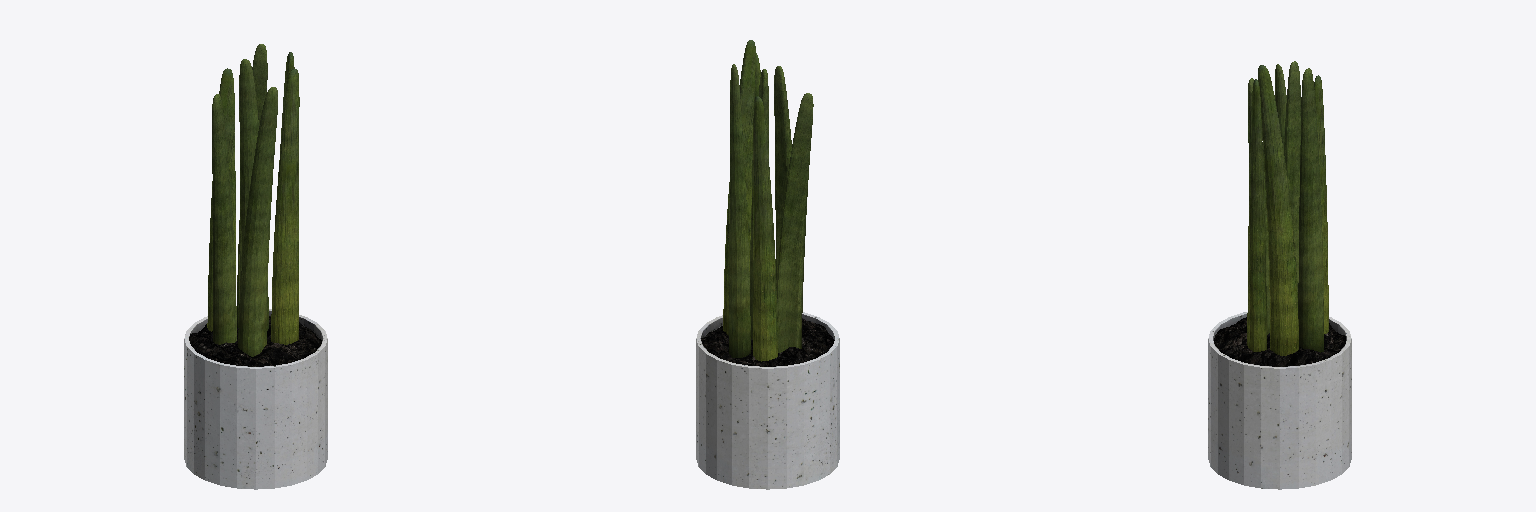
The picture shows the model from 3 angles: view 1: azimuth 30°, elevation 25°; view 2: azimuth 150°, elevation 25°; view 3: azimuth 270°, elevation 25°; orthographic projection.
Parts seen in each view (by area): view 1: Sansewieria; view 2: Sansewieria; view 3: Sansewieria.
Part boxes in pixels (x1,y1,x2,y2): Sansewieria: (184,44,327,489); Sansewieria: (696,40,839,489); Sansewieria: (1208,61,1351,489).
Size of the model in its own units: 147 by 459 by 147.
1 materials, 1 textured.